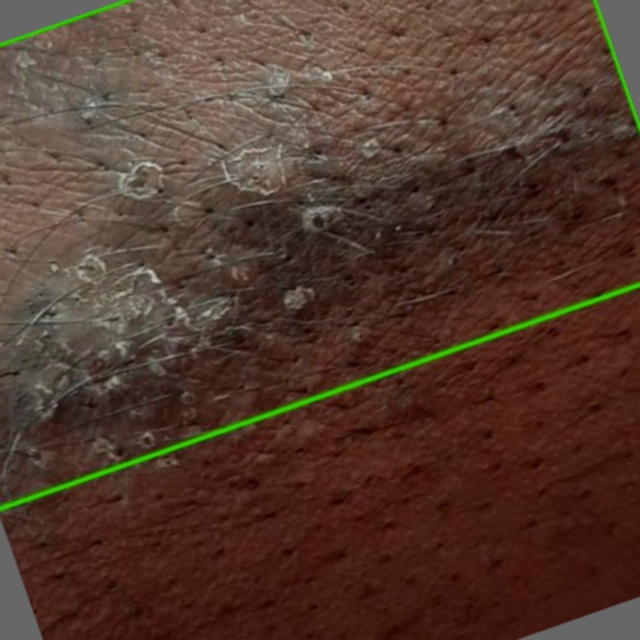Eczema: (0, 0, 639, 508)
